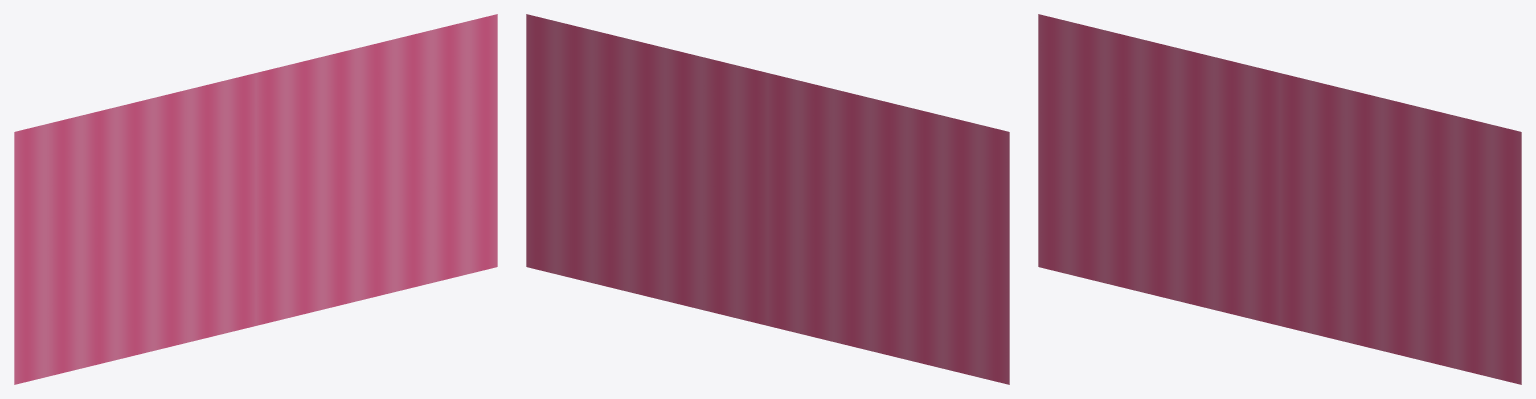
File: test_object_curtain02.fbx
3 views of the same model, side by side, from view 1: azimuth 30°, elevation 25°; view 2: azimuth 150°, elevation 25°; view 3: azimuth 330°, elevation 25° (orthographic).
Visible parts, largest first — view 1: curtain_left, curtain_right; view 2: curtain_left, curtain_right; view 3: curtain_left, curtain_right.
Part boxes in pixels (x1,y1,x2,y2): curtain_left: (14, 73, 255, 384); curtain_right: (256, 14, 497, 325); curtain_left: (768, 73, 1009, 384); curtain_right: (526, 14, 767, 325); curtain_left: (1038, 14, 1279, 325); curtain_right: (1280, 73, 1521, 384).
Bounding box in the file's own units: 400 × 200 × 1.19e-07.
Materials: 1 (1 with a texture image).
